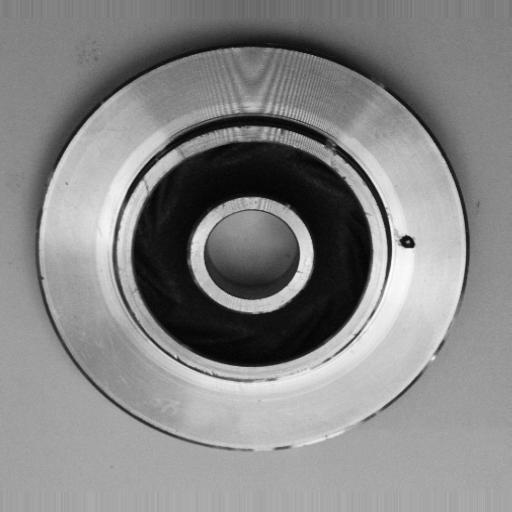pit: (390, 224, 423, 259)
scratch: (249, 421, 374, 465), (307, 125, 354, 178)
unpolished_casting: (33, 44, 471, 457)
